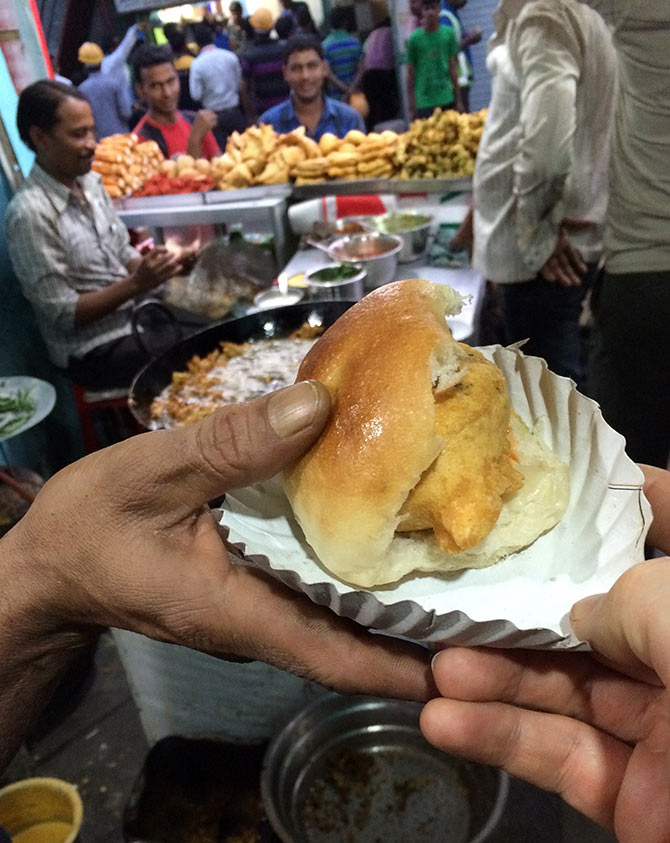vada pav: (347, 344, 485, 561)
